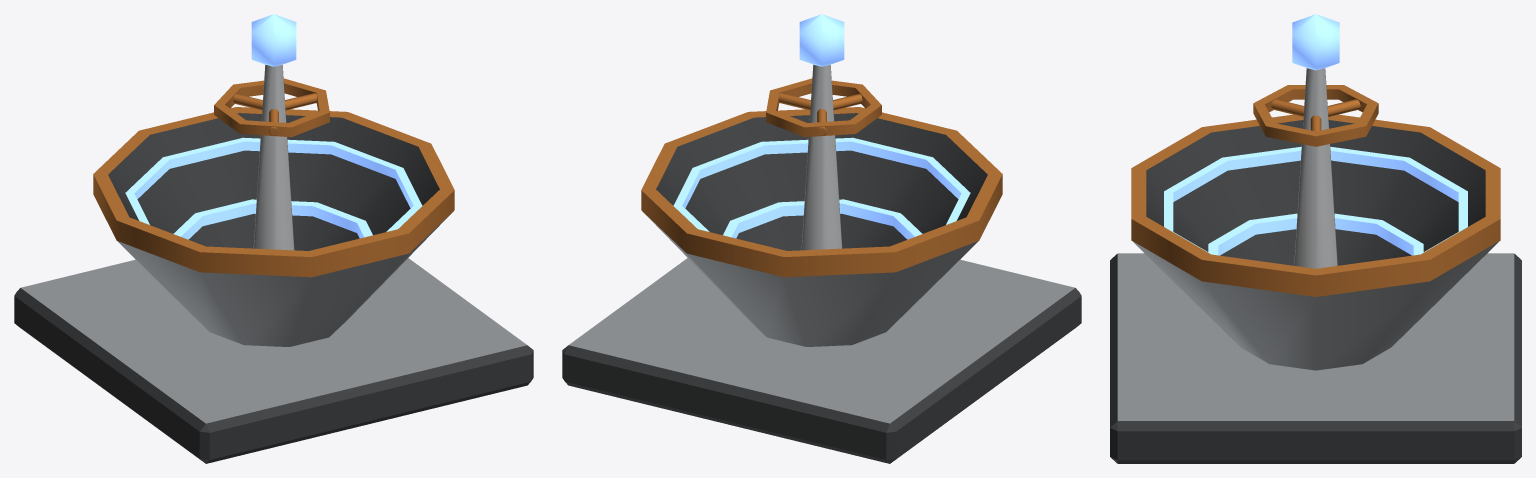
Rendered from R4X_ScannerPulse_LOD1.fbx.
The picture shows the model from 3 angles, left to right: view 1: azimuth 30°, elevation 25°; view 2: azimuth 150°, elevation 25°; view 3: azimuth 270°, elevation 25°; orthographic projection. The views are drawn at different scales.
Parts seen in each view (by area): view 1: R4X_ScannerPulse_LOD1; view 2: R4X_ScannerPulse_LOD1; view 3: R4X_ScannerPulse_LOD1.
Part boxes in pixels (x1,y1,x2,y2): R4X_ScannerPulse_LOD1: (14,14,533,463); R4X_ScannerPulse_LOD1: (562,14,1081,463); R4X_ScannerPulse_LOD1: (1110,14,1521,463).
Size of the model in its own units: 0.52 by 0.51 by 0.52.
